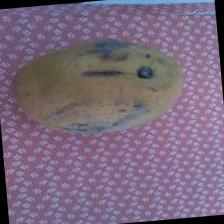Orange Rotten: (1, 24, 196, 152)
